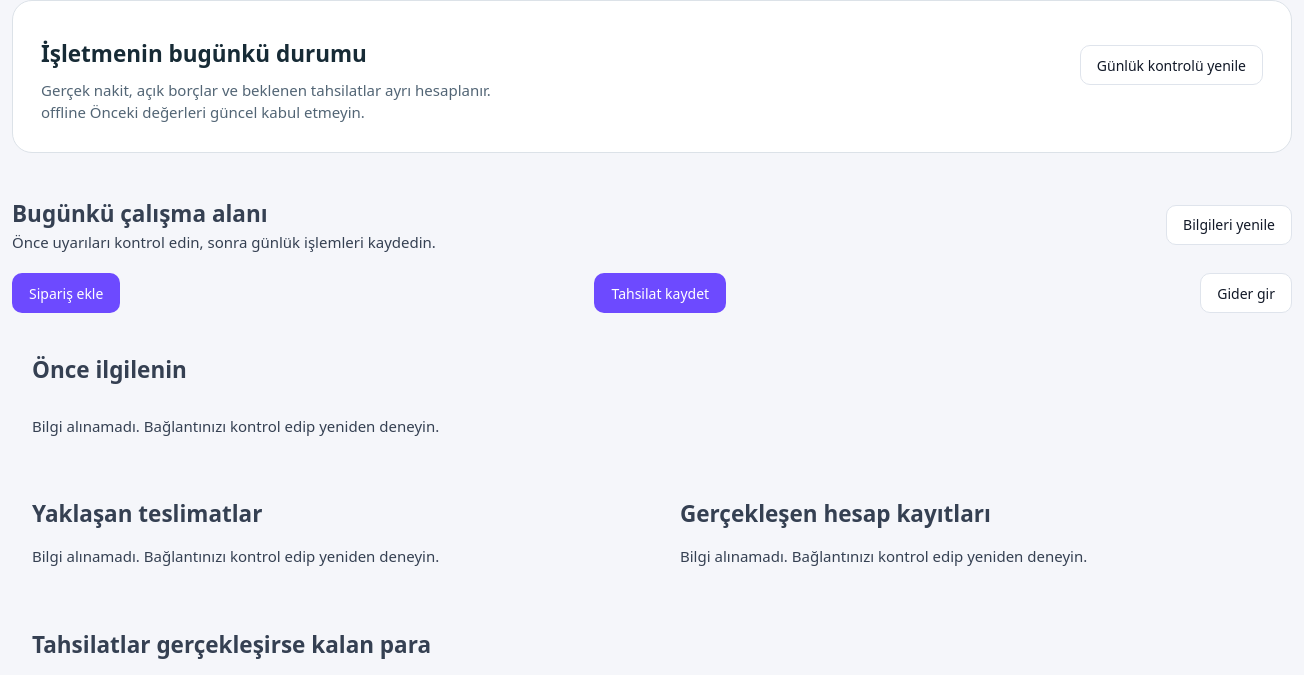
it: shows failures instead of invented zero balances and can refresh
Expected: the text "0 DZD" is not shown
Click the button "Bilgileri yenile": {"x": 1229, "y": 225} [1166,205,1292,245]
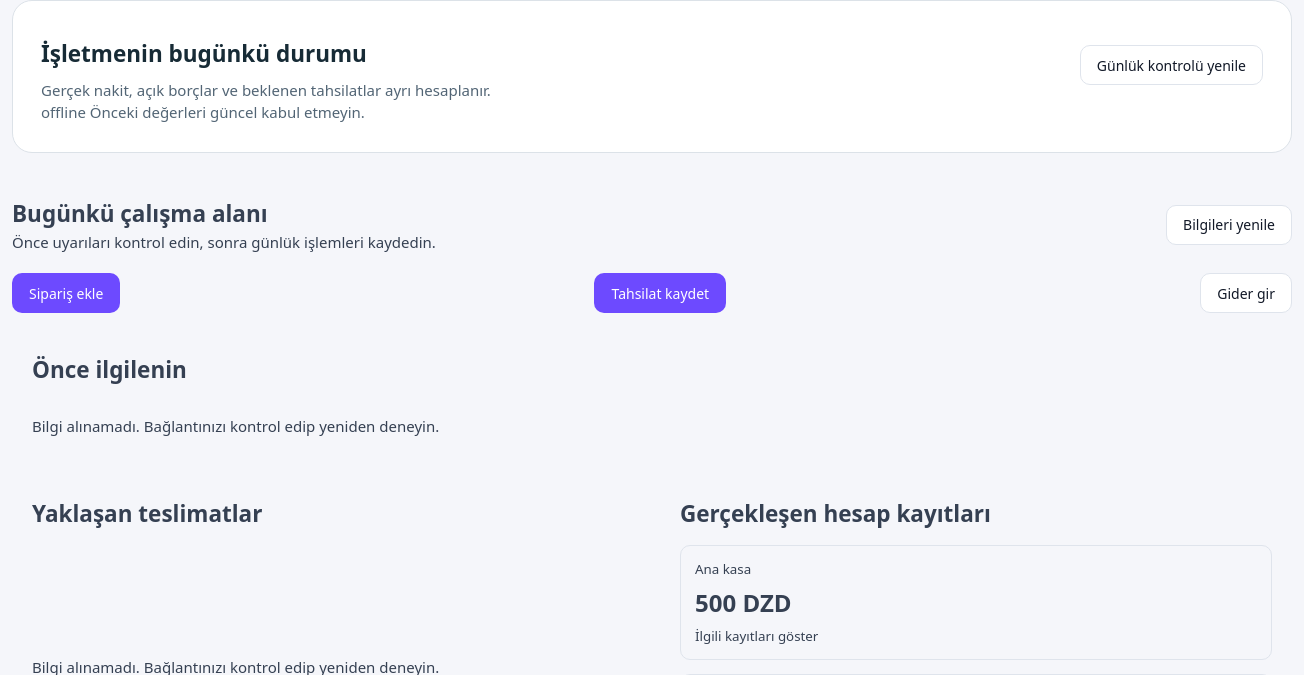
Expected: the text "500 DZD" is shown, [695,586,792,619]
